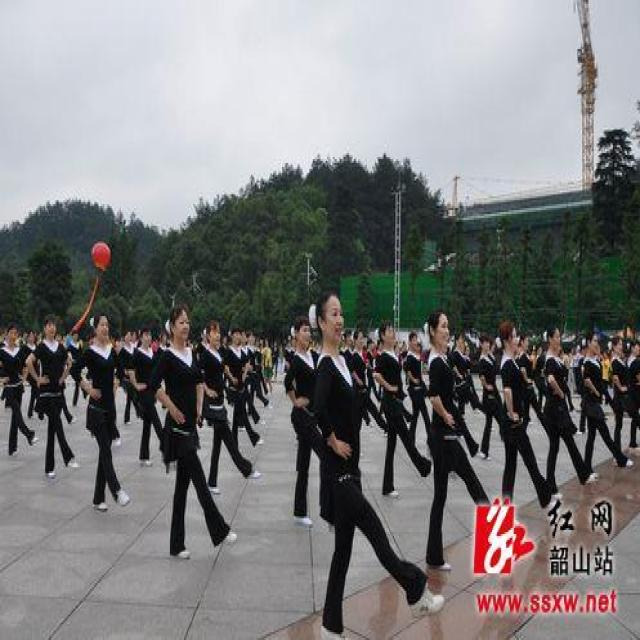non-fight: (284, 291, 420, 636), (148, 298, 233, 560), (73, 304, 129, 512), (27, 316, 76, 479), (572, 348, 620, 479)
